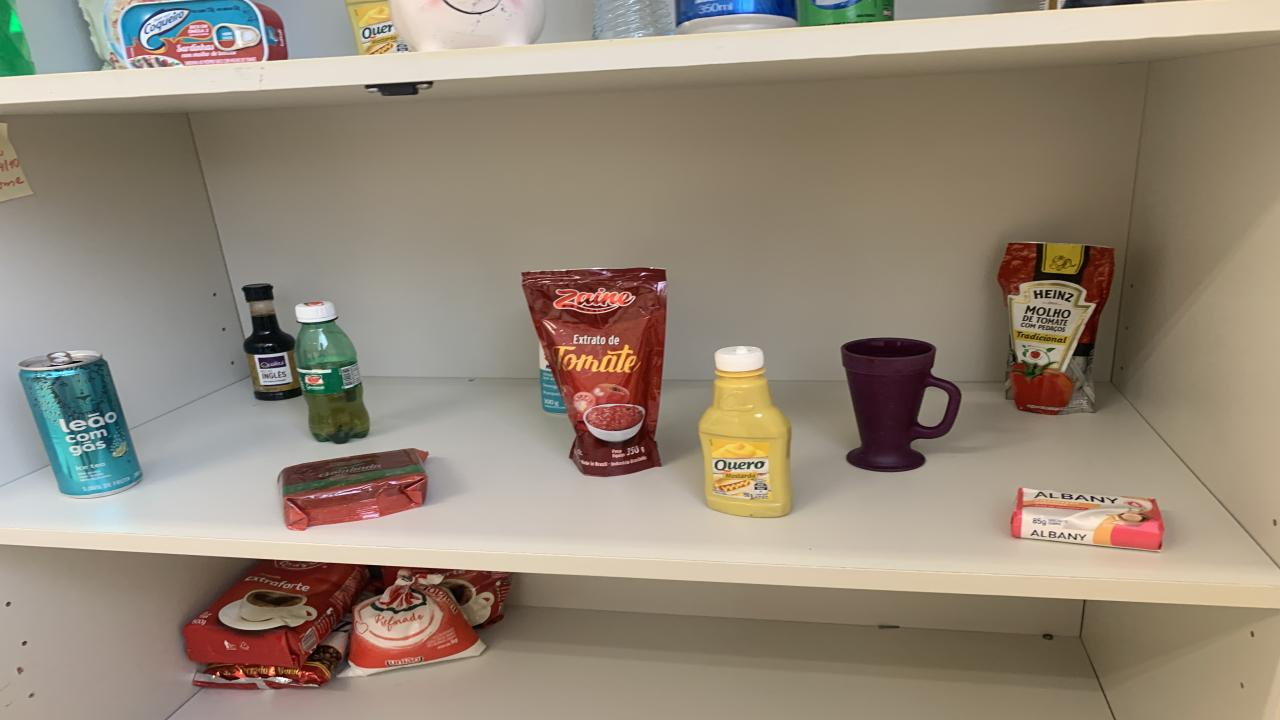Cleaner-Cleanup_Items: (538, 345, 568, 414)
English_Sauce-Pantry_Items: (242, 283, 302, 401)
Flakes-Snacks: (78, 0, 132, 69)
Guarana-Drinks: (295, 302, 370, 444)
Guava-Snacks: (278, 448, 428, 531)
Mustard-Pantry_Items: (698, 347, 792, 518), (345, 0, 410, 54)
Pig_Safe-Miscellaneous: (388, 0, 545, 51)
Pringles-Snacks: (798, 0, 895, 26)
Soap-Cleanup_Items: (1010, 488, 1162, 551)
Tea-Drinks: (20, 351, 142, 497)
Tomato_Sauce-Pantry_Items: (522, 268, 668, 476), (998, 242, 1115, 414)
Tonic-Drinks: (675, 0, 798, 34)
Tuna_Can-Pantry_Items: (120, 0, 288, 66)
Water_Bottle-Drinks: (592, 0, 675, 39)
